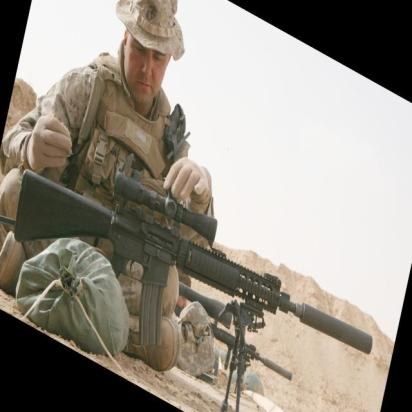Gun: (58, 23, 412, 352)
